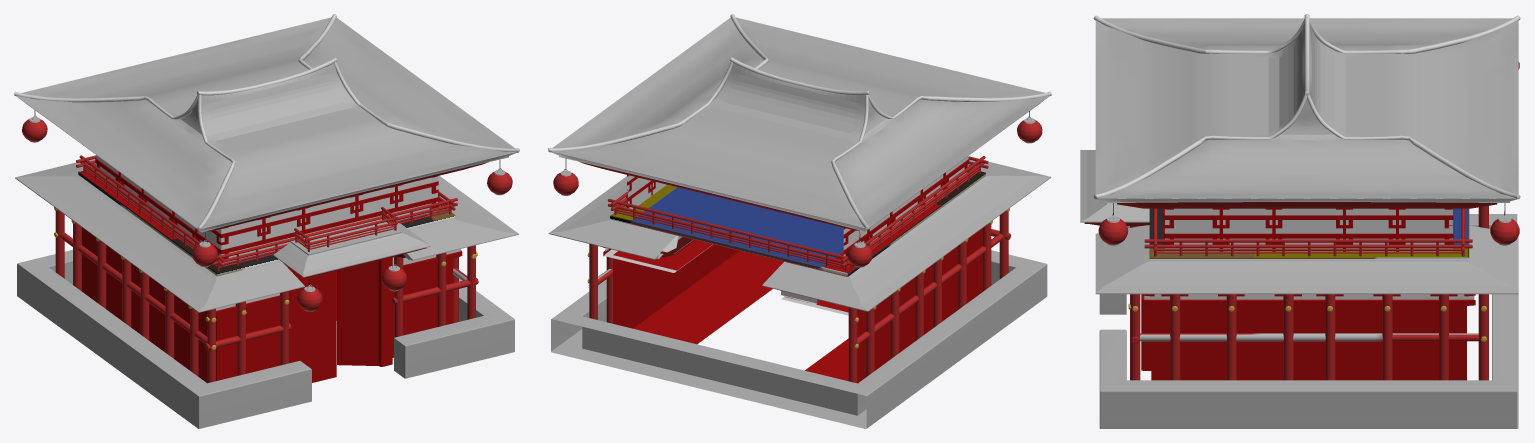
File: temple.fbx
3 renders of one model, left to right at view 1: azimuth 30°, elevation 25°; view 2: azimuth 150°, elevation 25°; view 3: azimuth 270°, elevation 25°, orthographic. The views are drawn at different scales.
Visible parts, largest first — view 1: pCube39; view 2: pCube39; view 3: pCube39.
Boxes of the visible parts, <box> form: pCube39: <box>14,14,519,428</box>; pCube39: <box>548,14,1051,428</box>; pCube39: <box>1080,14,1520,428</box>.
Size of the model in its own units: 1296 by 964 by 1333.
